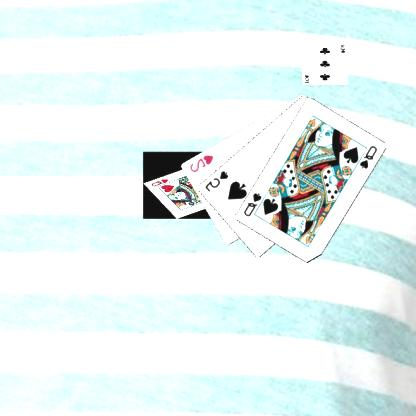2H: (188, 152, 216, 174)
5S: (204, 167, 232, 193)
QS: (243, 190, 265, 218), (358, 143, 380, 170)
